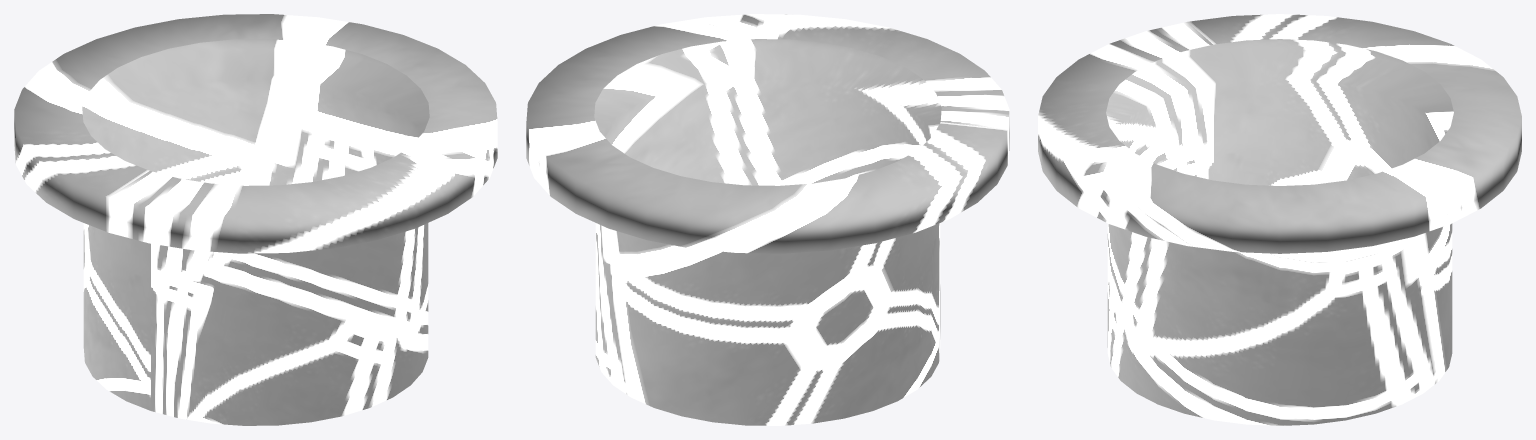
File: pipe.glb
3 views of the same model, side by side, from view 1: azimuth 30°, elevation 25°; view 2: azimuth 150°, elevation 25°; view 3: azimuth 270°, elevation 25° (orthographic).
Parts seen in each view (by area): view 1: Pipe top.002; view 2: Pipe top.002; view 3: Pipe top.002.
Boxes of the visible parts, bbox=[...] form: Pipe top.002: bbox=[14, 14, 497, 425]; Pipe top.002: bbox=[526, 14, 1009, 425]; Pipe top.002: bbox=[1038, 14, 1521, 425].
Size of the model in its own units: 3.73 by 2.04 by 3.73.
1 material, 1 textured.
